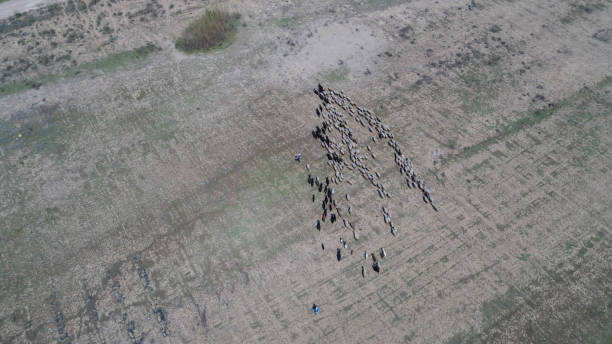sheep: (412, 178, 428, 190), (335, 247, 345, 265), (375, 186, 387, 200), (341, 218, 352, 232), (426, 190, 437, 203), (318, 242, 330, 253), (341, 192, 351, 205), (352, 227, 361, 241), (314, 217, 323, 231), (376, 248, 387, 259), (359, 264, 367, 279), (346, 206, 355, 219), (324, 145, 334, 156), (323, 209, 331, 222), (374, 261, 383, 272), (406, 167, 415, 178), (390, 229, 400, 238), (328, 213, 336, 224), (322, 195, 330, 206), (329, 155, 338, 164), (370, 253, 380, 261), (312, 177, 319, 188), (373, 171, 384, 178), (383, 213, 391, 222), (328, 188, 335, 198), (307, 172, 312, 186), (325, 176, 331, 187), (317, 82, 324, 91), (322, 119, 329, 128), (320, 136, 329, 143), (365, 143, 372, 152), (371, 137, 378, 146), (314, 90, 321, 98), (383, 204, 389, 213), (316, 182, 321, 192), (311, 194, 318, 201), (397, 158, 403, 166), (320, 200, 326, 208), (369, 150, 375, 158), (334, 197, 339, 206), (326, 108, 332, 115), (311, 132, 318, 138), (310, 181, 316, 188), (315, 103, 320, 111), (326, 98, 331, 105), (318, 127, 322, 132)
